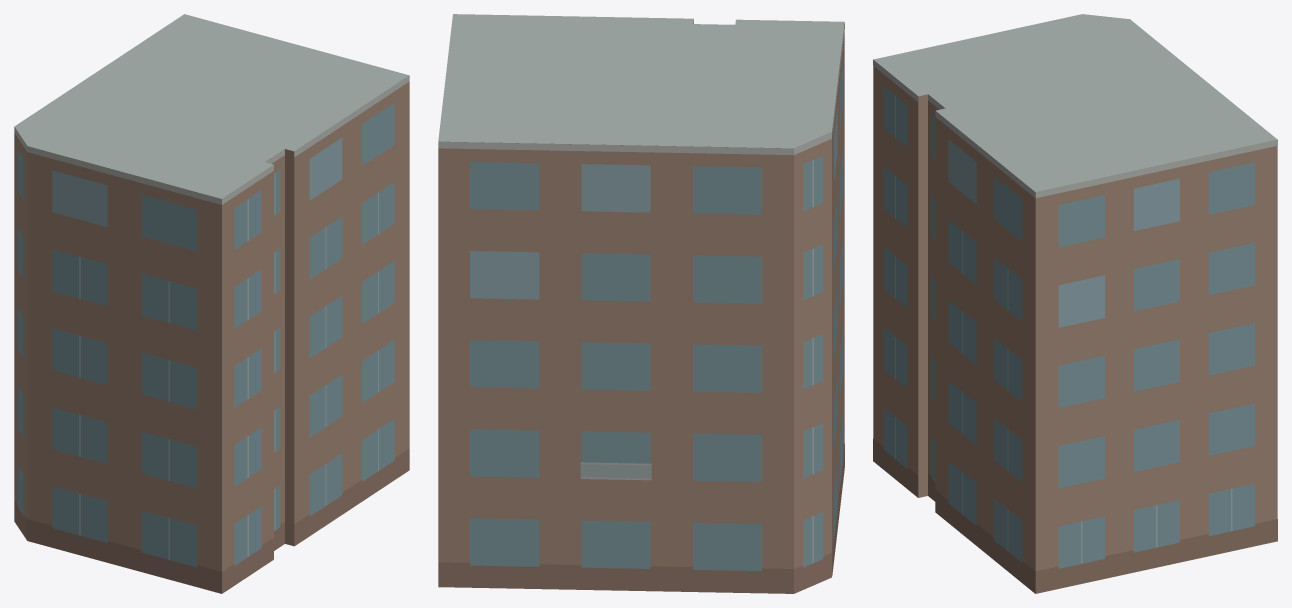
Rendered from survey-upis-32837278.glb.
The picture shows the model from 3 angles, left to right: view 1: azimuth 30°, elevation 25°; view 2: azimuth 150°, elevation 25°; view 3: azimuth 270°, elevation 25°; orthographic projection. The views are drawn at different scales.
Visible parts, largest first — view 1: survey-upis-32837278.tmp; view 2: survey-upis-32837278.tmp; view 3: survey-upis-32837278.tmp.
Boxes of the visible parts, <box> form: survey-upis-32837278.tmp: <box>14,14,409,593</box>; survey-upis-32837278.tmp: <box>438,14,844,593</box>; survey-upis-32837278.tmp: <box>873,14,1277,593</box>.
Size of the model in its own units: 15.23 by 16 by 14.62.
